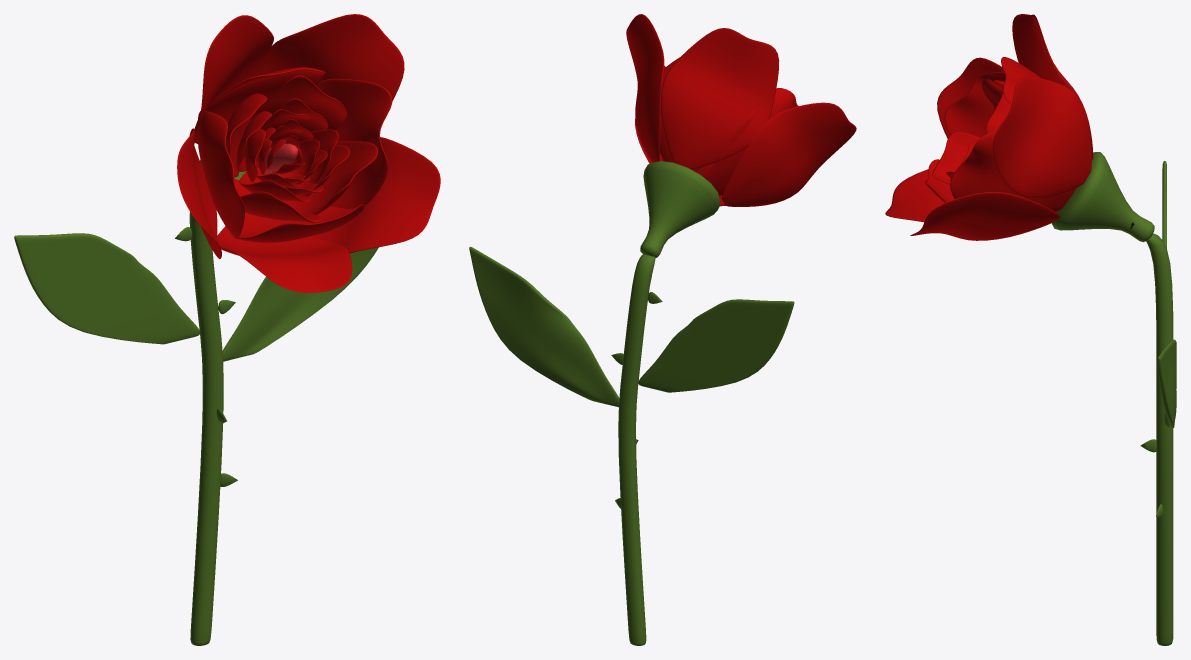
The model's file is rosaaa final.fbx.
3 renders of one model, left to right at view 1: azimuth 30°, elevation 25°; view 2: azimuth 150°, elevation 25°; view 3: azimuth 270°, elevation 25°, orthographic. The views are drawn at different scales.
Visible parts, largest first — view 1: Rosa2, Hoja_2, Hoja_1; view 2: Rosa2, Hoja_1, Hoja_2; view 3: Rosa2, Hoja_1.
Part boxes in pixels (box(x1,y1,x2,y2)): Rosa2: box(175, 14, 440, 645); Hoja_2: box(14, 233, 200, 344); Hoja_1: box(222, 247, 378, 361); Rosa2: box(611, 14, 856, 645); Hoja_1: box(469, 246, 619, 407); Hoja_2: box(638, 299, 794, 392); Rosa2: box(885, 14, 1173, 645); Hoja_1: box(1157, 339, 1176, 427).
Bounding box in the file's own units: 2.91 × 4.9 × 2.12.
